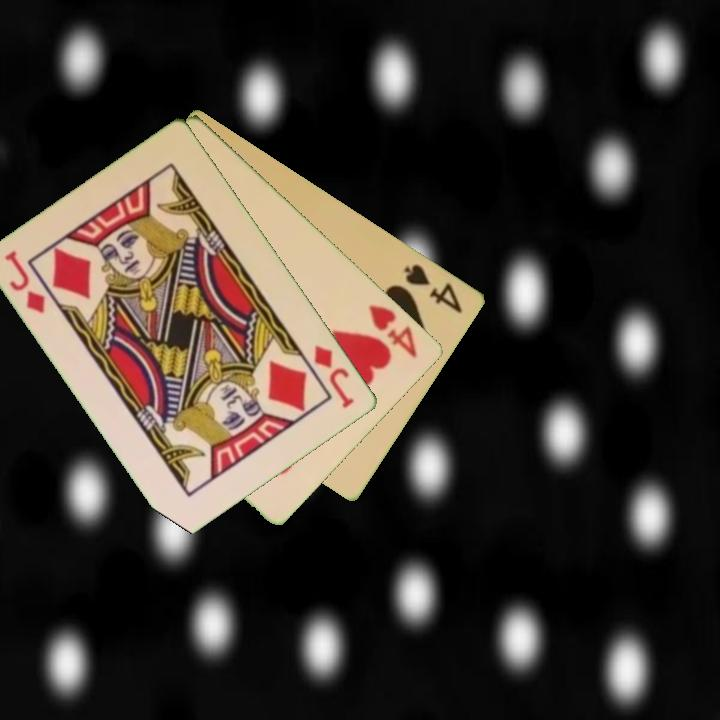4h: (365, 300, 421, 361)
4s: (401, 260, 466, 317)
Jd: (1, 247, 49, 317), (311, 341, 358, 412)
